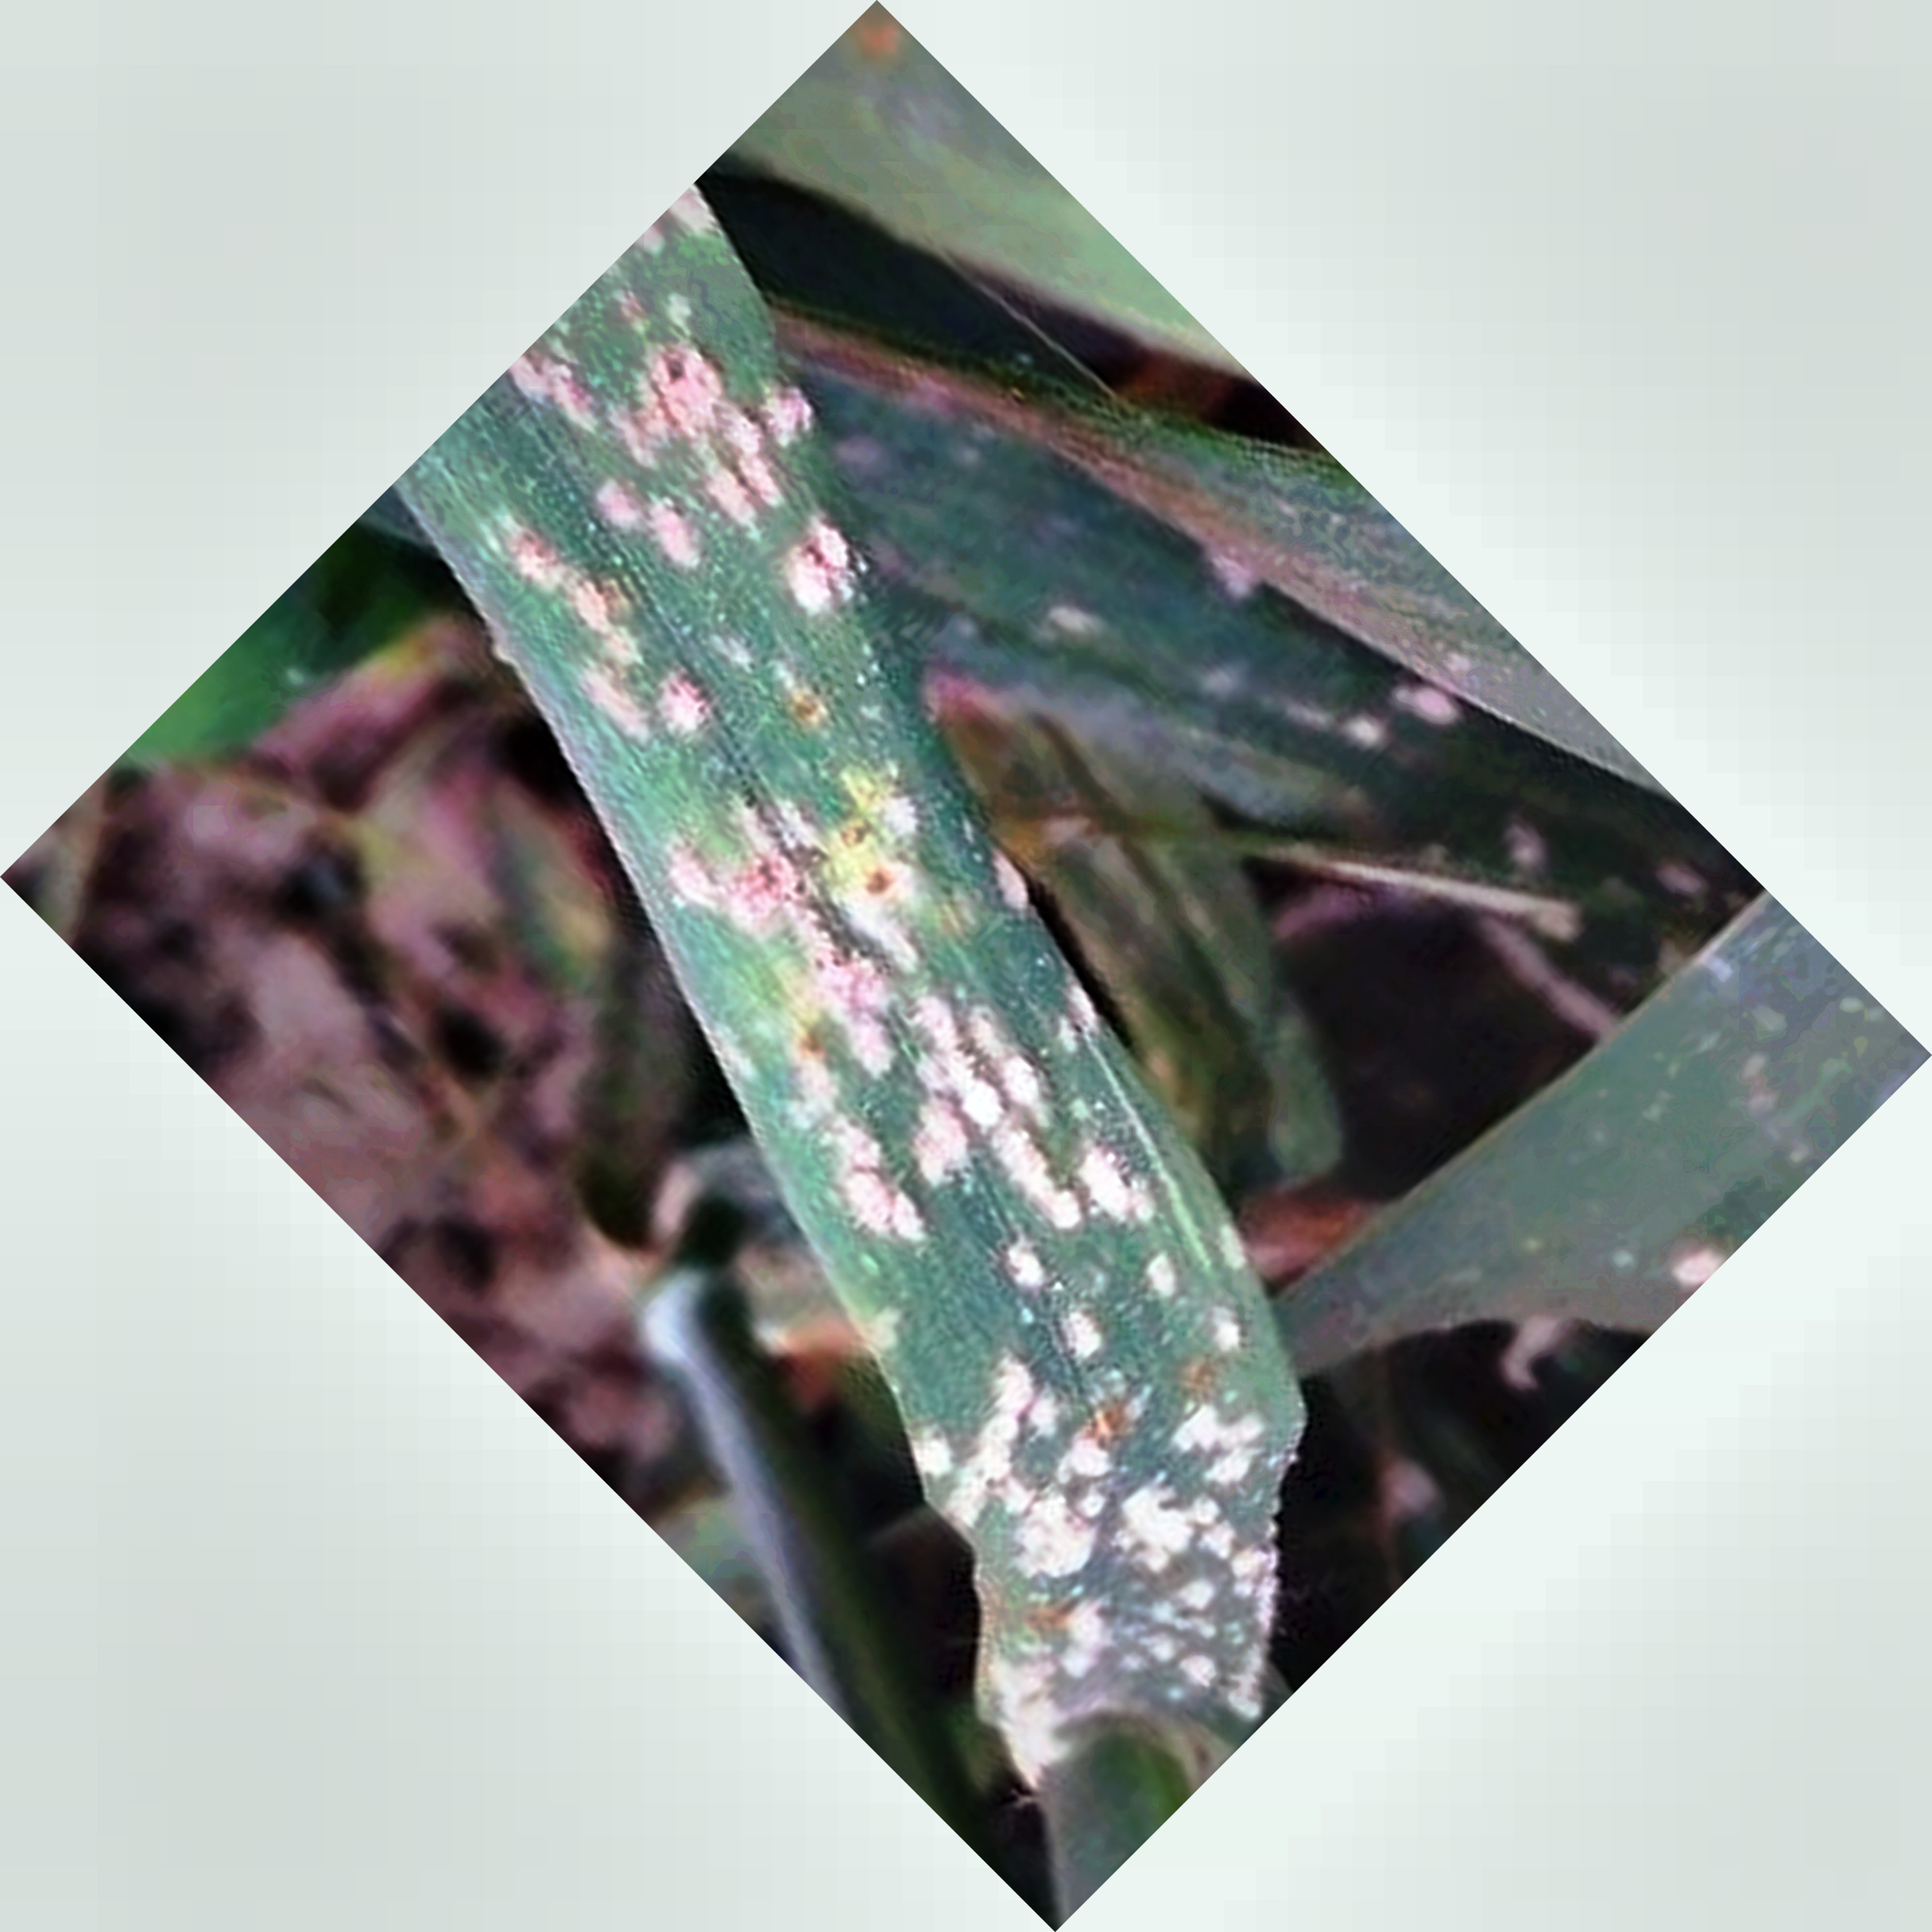Powdery Mildew: (515, 356, 1288, 1578)
